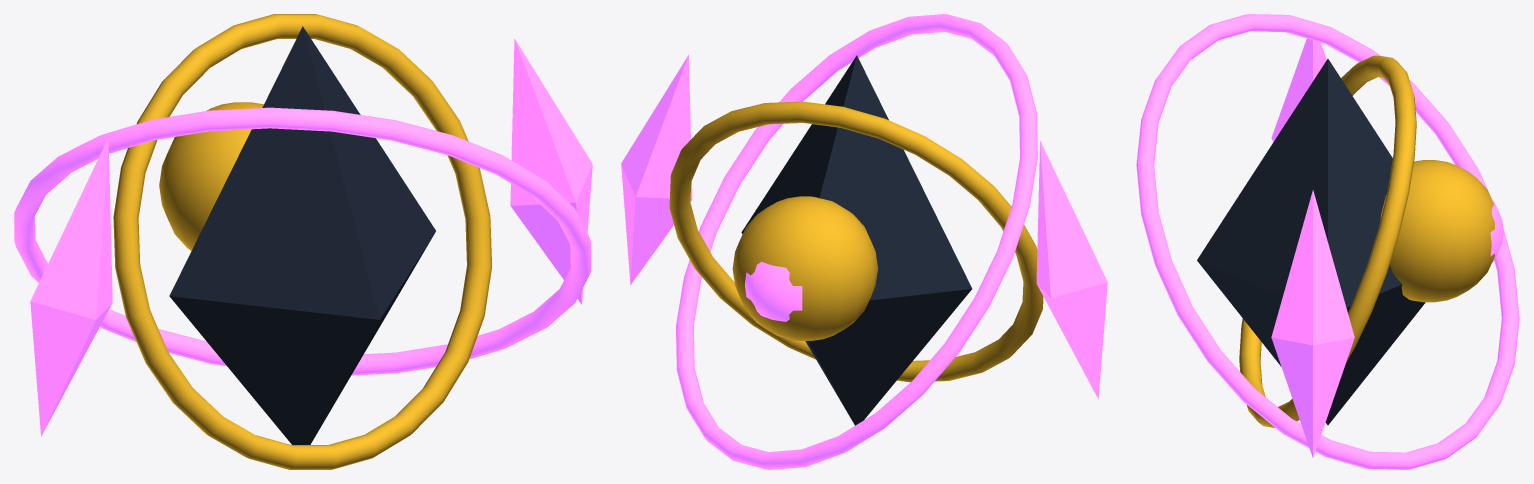
File: enemy_prism_sentinel.glb
3 views of the same model, side by side, from view 1: azimuth 30°, elevation 25°; view 2: azimuth 150°, elevation 25°; view 3: azimuth 270°, elevation 25° (orthographic). The views are drawn at different scales.
Parts seen in each view (by area): view 1: SentinelCore, GyroRingInner, GyroRingOuter, WingShard_-1, WingShard_1, EyeSocket; view 2: SentinelCore, GyroRingOuter, GyroRingInner, EyeSocket, WingShard_-1, WingShard_1, PrismEye; view 3: SentinelCore, GyroRingOuter, EyeSocket, WingShard_1, GyroRingInner, WingShard_-1, PrismEye.
Part boxes in pixels (x1=…): SentinelCore: x1=169, y1=26, x2=435, y2=444; GyroRingInner: x1=113, y1=14, x2=491, y2=469; GyroRingOuter: x1=14, y1=107, x2=591, y2=375; WingShard_-1: x1=30, y1=137, x2=112, y2=436; WingShard_1: x1=510, y1=38, x2=592, y2=304; EyeSocket: x1=159, y1=102, x2=263, y2=250; SentinelCore: x1=741, y1=55, x2=972, y2=425; GyroRingOuter: x1=676, y1=14, x2=1037, y2=469; GyroRingInner: x1=669, y1=101, x2=1043, y2=382; EyeSocket: x1=732, y1=196, x2=877, y2=340; WingShard_-1: x1=1036, y1=140, x2=1107, y2=399; WingShard_1: x1=621, y1=55, x2=692, y2=284; PrismEye: x1=744, y1=261, x2=802, y2=321; SentinelCore: x1=1197, y1=59, x2=1425, y2=425; GyroRingOuter: x1=1136, y1=14, x2=1519, y2=469; EyeSocket: x1=1380, y1=160, x2=1494, y2=302; WingShard_1: x1=1271, y1=190, x2=1354, y2=457; GyroRingInner: x1=1239, y1=55, x2=1416, y2=427; WingShard_-1: x1=1271, y1=21, x2=1326, y2=142; PrismEye: x1=1490, y1=199, x2=1503, y2=262.
Size of the model in its own units: 1.85 by 1.36 by 1.29.
